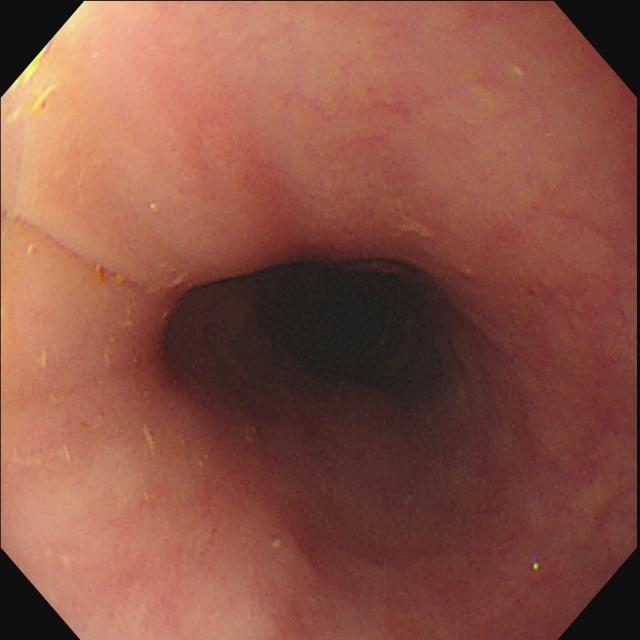E: (283, 274, 392, 348)
